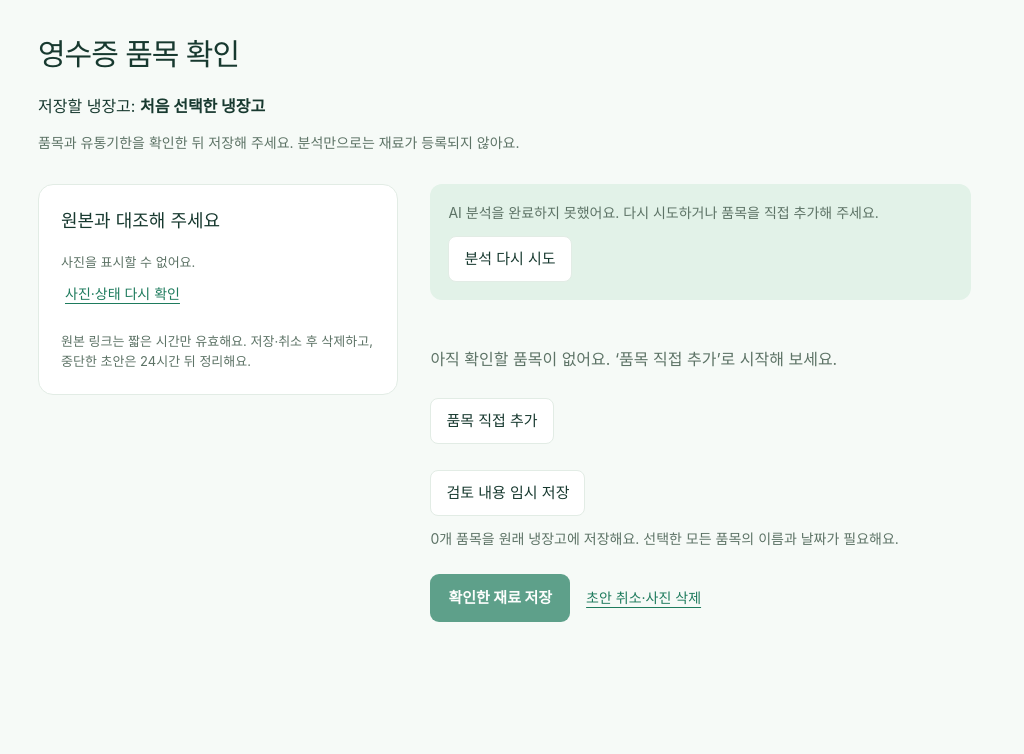
Test: retry_reads_the_existing_photo_and_requires_confirmation_before_importing
Click the button "분석 다시 시도".
click(510, 259)  # box left=448, top=236, right=572, bottom=282
(page scrolled)
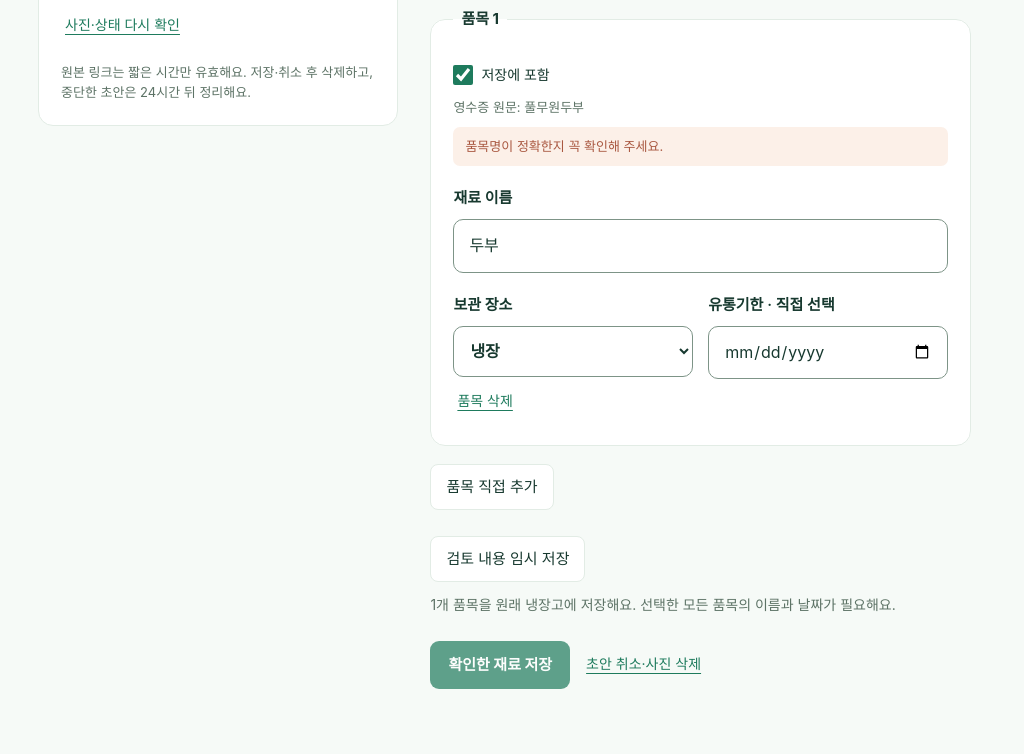
Expected: the field named "재료 이름 1" holds "두부", left=453, top=219, right=948, bottom=273
Expected: the date field named "유통기한 1" is empty, left=708, top=326, right=948, bottom=379
Expected: the button "분석 다시 시도" is gone
